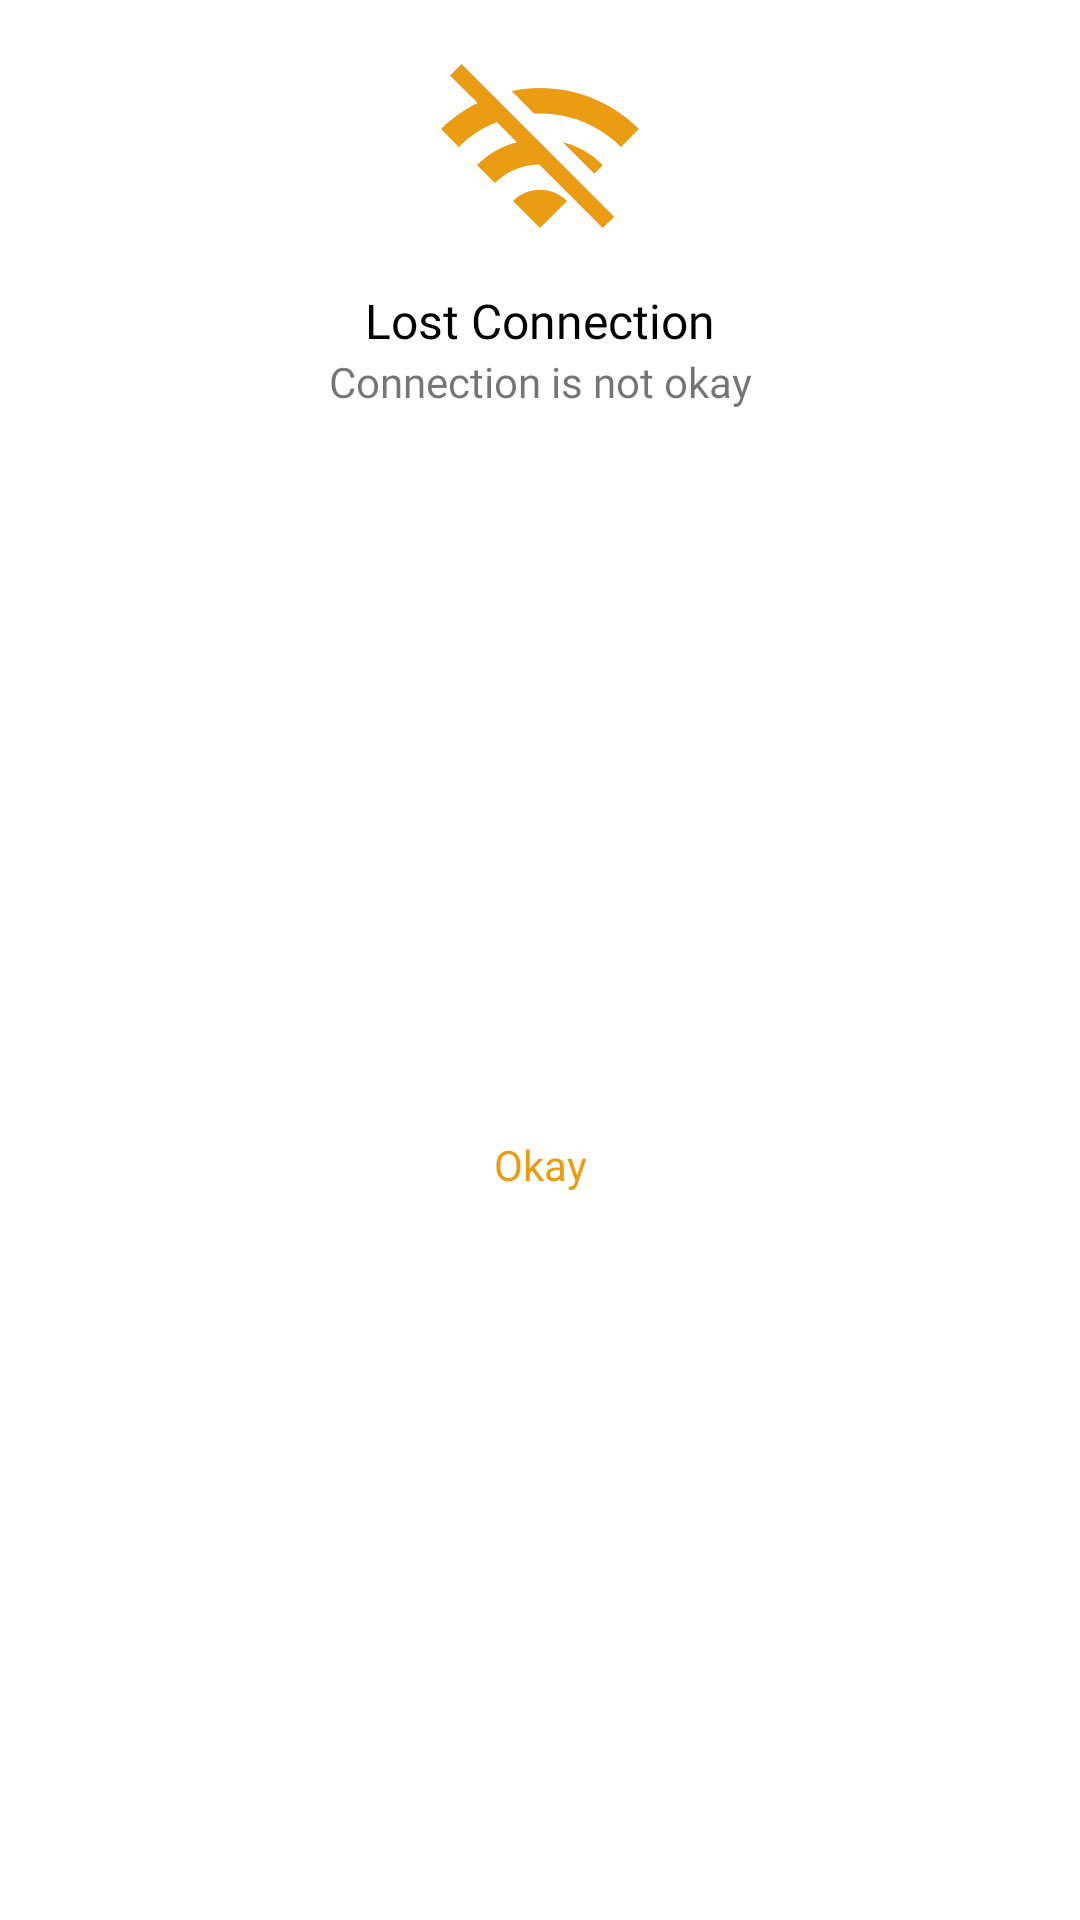

Screen size 1080 × 1920. Icon name, then its center in pixels as [x,y]:
wifi off: [540,146]
